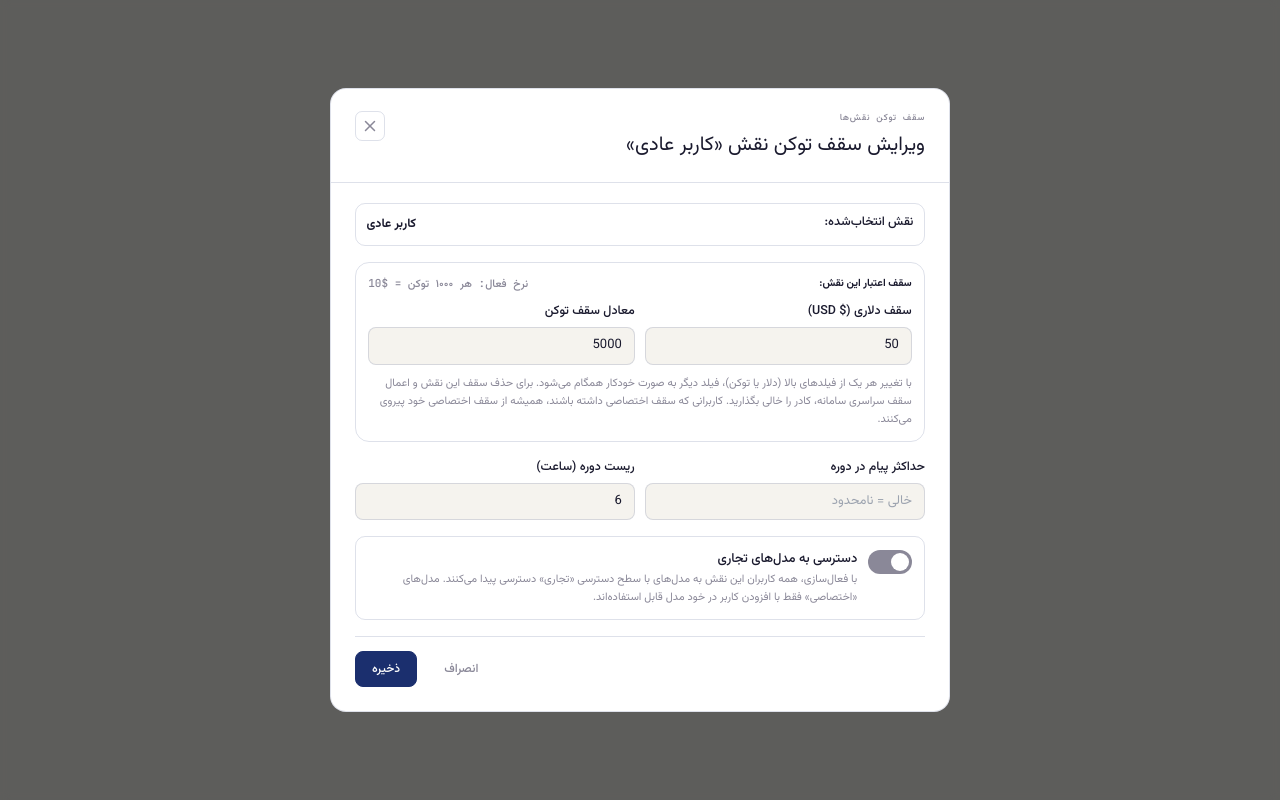
Test: RoleTokenLimitModal › keeps token and dollar fields in sync via the rate
Replace the text in the field labelled "معادل سقف توکن" with "10000" at {"x": 502, "y": 346}, box [368,327,635,365]
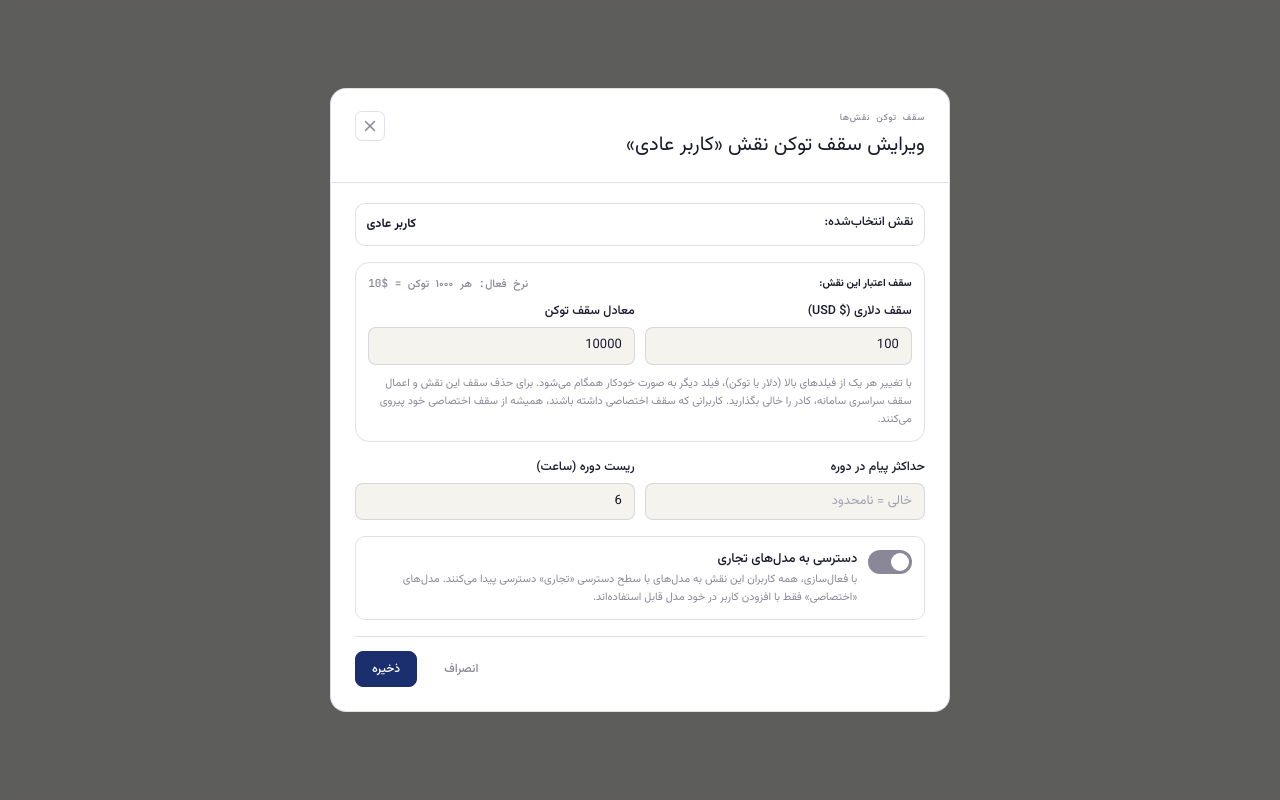
Expected: the field labelled "سقف دلاری ($ USD)" holds "100", [645,327,912,365]
